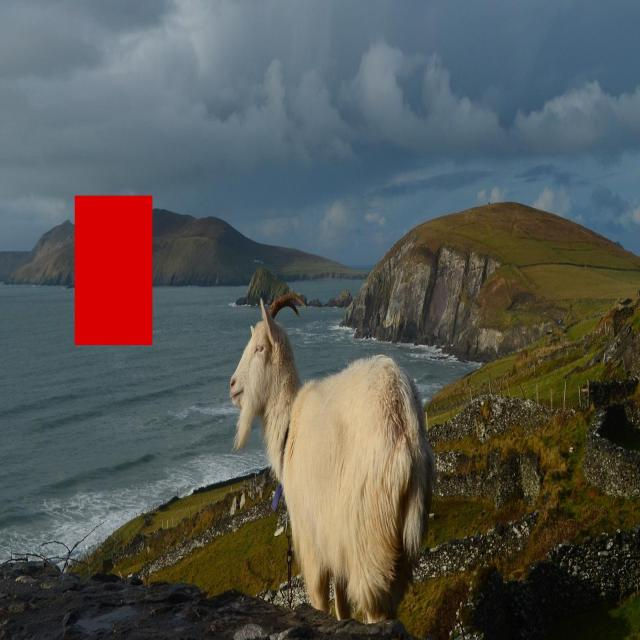RedSquare: (72, 188, 157, 356)
